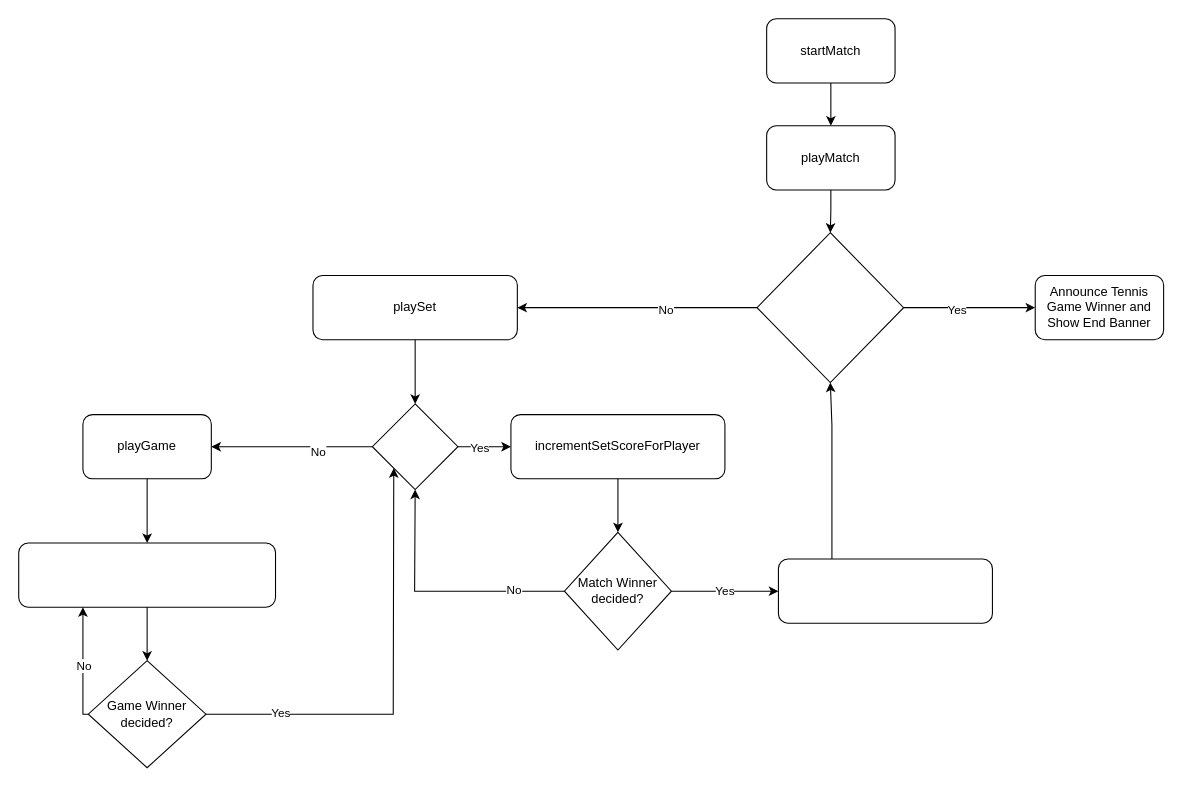
This 1182x786 diagram has some shape labels left out. The shapes that lost their labels are listed below. From the top down, each one's centre as x and y in pixels, then its label:
[830,307]: Tennis Game Winner Decided?
[414,446]: Set Winner decided?
[147,574]: incrementGameScoreForPlayer(player, commandLineUI);
[884,590]: incrementMatchScoreForPlayer
